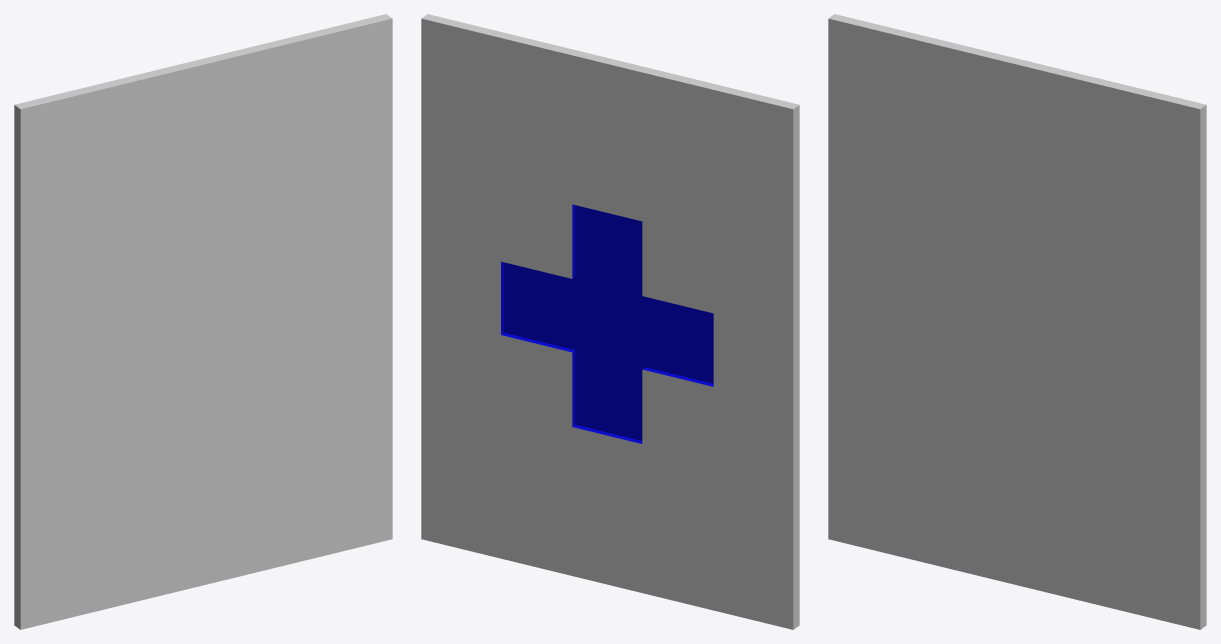
Rendered from blue_cruciform.dae.
The picture shows the model from 3 angles, left to right: view 1: azimuth 30°, elevation 25°; view 2: azimuth 150°, elevation 25°; view 3: azimuth 330°, elevation 25°; orthographic projection.
Visible parts, largest first — view 1: ShapeIndexedFaceSet; view 2: ShapeIndexedFaceSet; view 3: ShapeIndexedFaceSet.
Boxes of the visible parts, x1,y1,x2,y2 form: ShapeIndexedFaceSet: (14,14,392,629); ShapeIndexedFaceSet: (421,14,799,629); ShapeIndexedFaceSet: (828,14,1206,629).
Bounding box in the file's own units: 1.75 × 0.0508 × 2.34.
